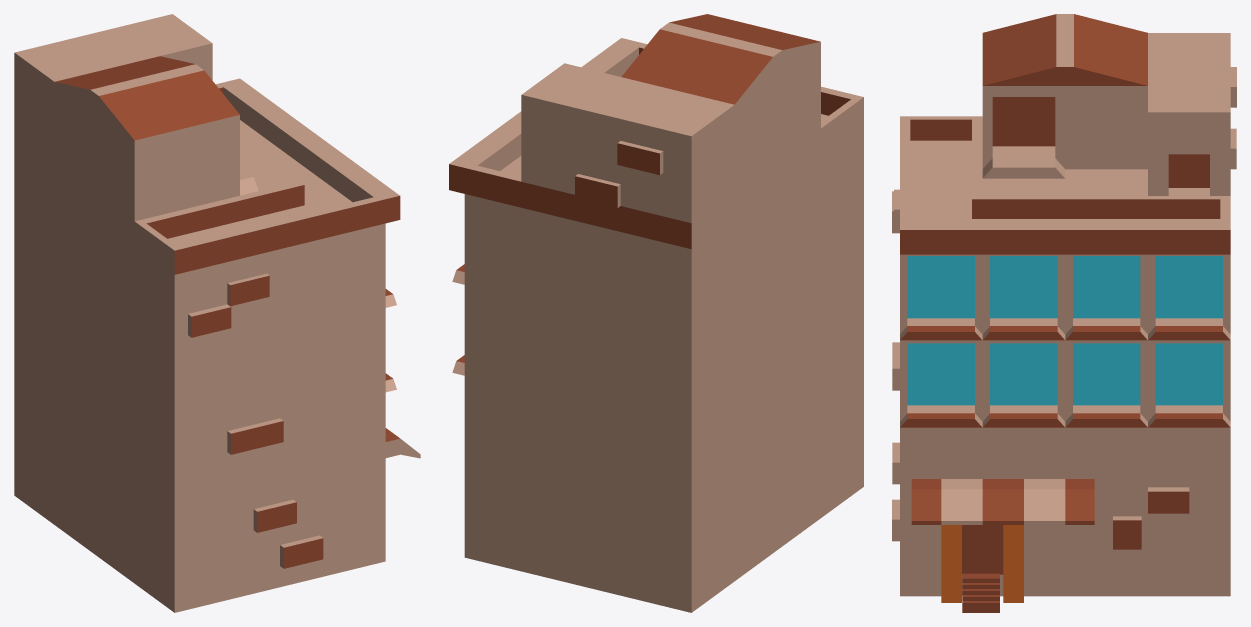
File: building2.fbx
3 views of the same model, side by side, from view 1: azimuth 30°, elevation 25°; view 2: azimuth 150°, elevation 25°; view 3: azimuth 270°, elevation 25° (orthographic). The views are drawn at different scales.
Parts seen in each view (by area): view 1: Cube; view 2: Cube; view 3: Cube.
Boxes of the visible parts, x1,y1,x2,y2 form: Cube: [14, 14, 420, 612]; Cube: [449, 14, 863, 612]; Cube: [892, 14, 1236, 612].
Bounding box in the file's own units: 516 × 912 × 594.
